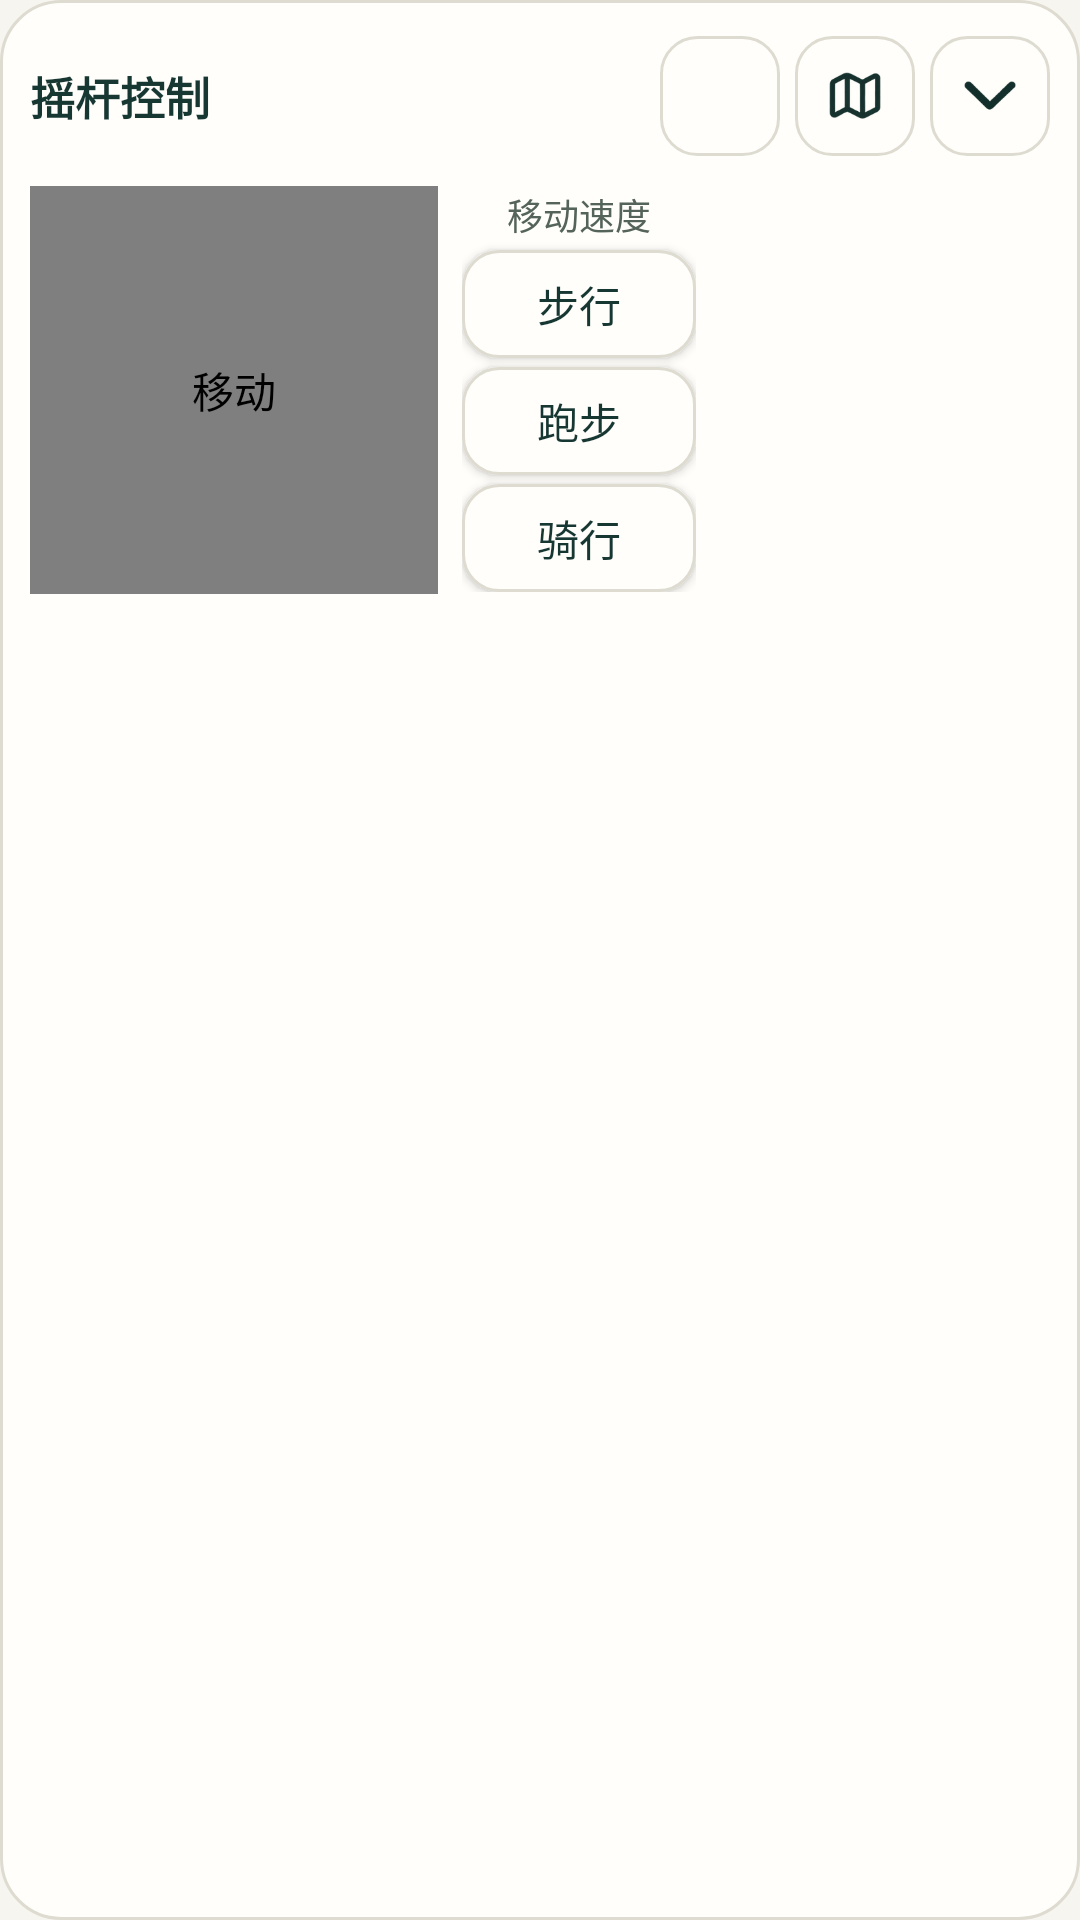

Where icons sit on this 1080px×1920px app screen, as rect(x1, y1, x2, y2):
地图: rect(795, 36, 915, 156)
收起摇杆: rect(930, 36, 1050, 156)
